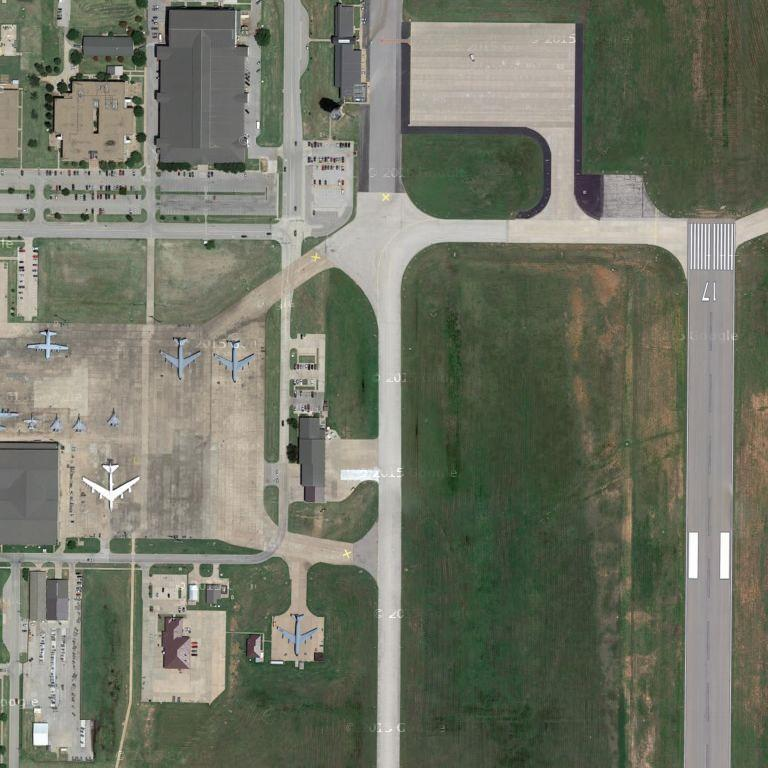B-52: (80, 456, 141, 514)
C-130: (23, 327, 74, 361)
KC-135: (273, 612, 322, 660), (211, 336, 257, 385), (159, 334, 202, 384)
